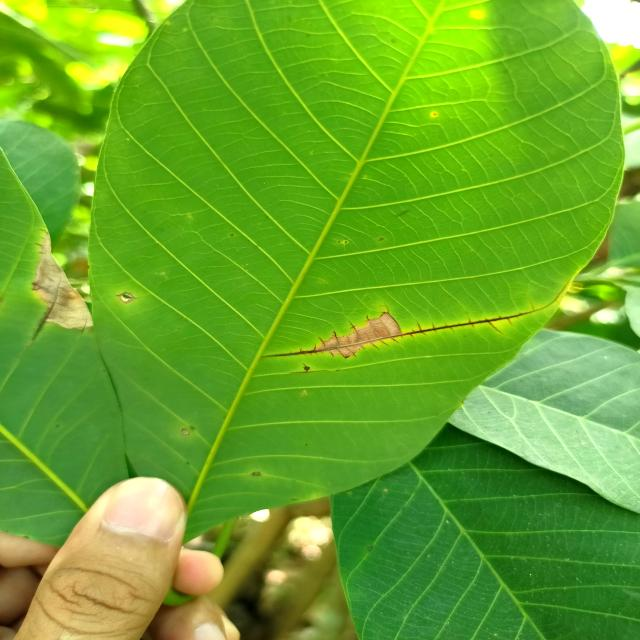Corynespora: (261, 286, 566, 358), (32, 305, 54, 339), (291, 363, 328, 373)
Leaf-Blight: (33, 232, 94, 330), (319, 314, 402, 355)
